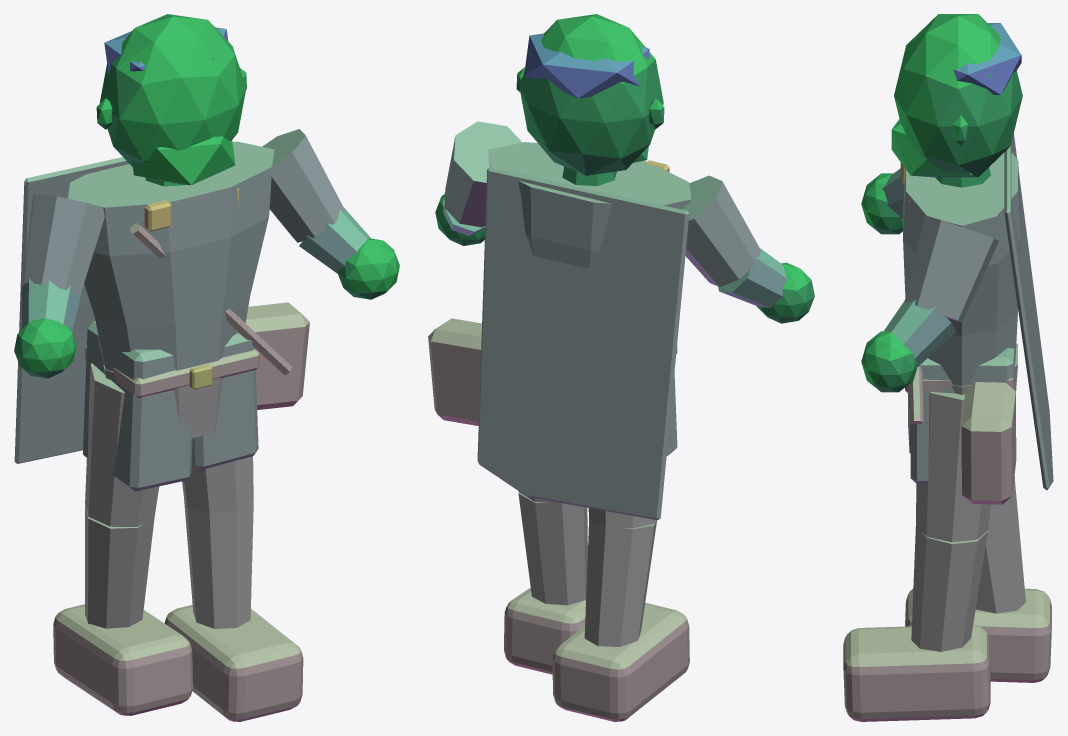
File: npc_wayfarer_react_v01.glb
3 views of the same model, side by side, from view 1: azimuth 30°, elevation 25°; view 2: azimuth 150°, elevation 25°; view 3: azimuth 270°, elevation 25° (orthographic).
Parts seen in each view (by area): view 1: GEO_npc_wayfarer_react_v01; view 2: GEO_npc_wayfarer_react_v01; view 3: GEO_npc_wayfarer_react_v01.
Part boxes in pixels (x1=…): GEO_npc_wayfarer_react_v01: x1=14, y1=14, x2=399, y2=721; GEO_npc_wayfarer_react_v01: x1=428, y1=14, x2=814, y2=721; GEO_npc_wayfarer_react_v01: x1=843, y1=14, x2=1053, y2=721.
Size of the model in its own units: 1.21 by 2.07 by 0.5853.
